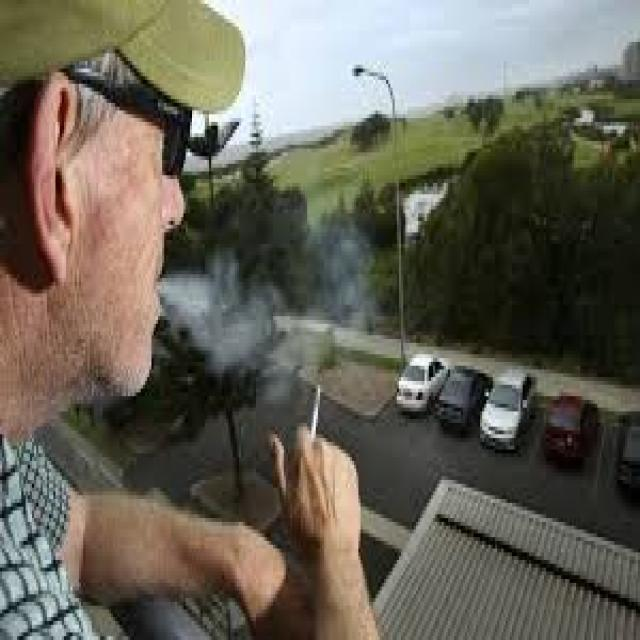Smoke: (174, 258, 270, 390), (322, 230, 372, 356)
